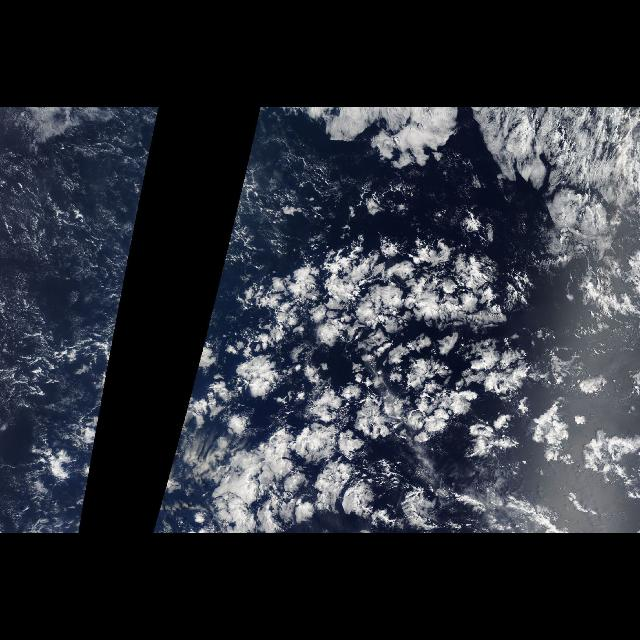Flower: (196, 186, 626, 534)
Sugar: (7, 115, 144, 338)
